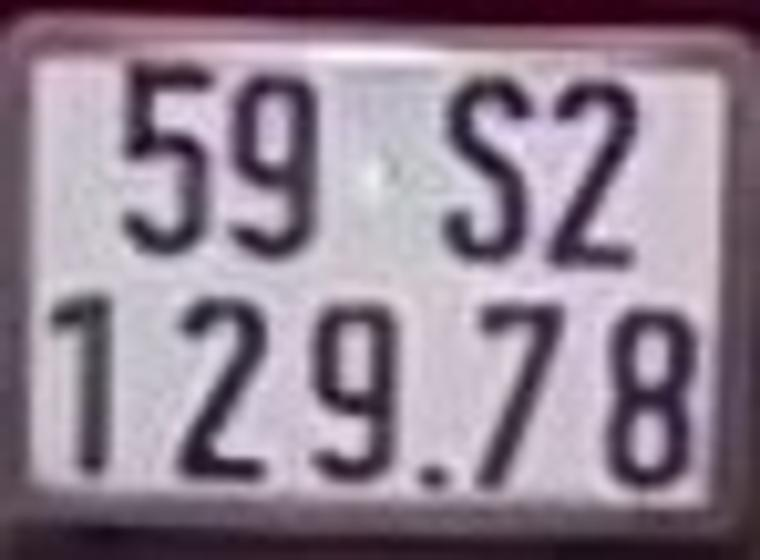.: (421, 462, 453, 495)
1: (51, 291, 122, 474)
2: (171, 297, 274, 482), (550, 81, 642, 275)
5: (121, 59, 219, 257)
7: (472, 296, 567, 492)
8: (607, 304, 696, 490)
9: (309, 298, 404, 481), (228, 72, 318, 260)
S: (438, 78, 540, 269)
